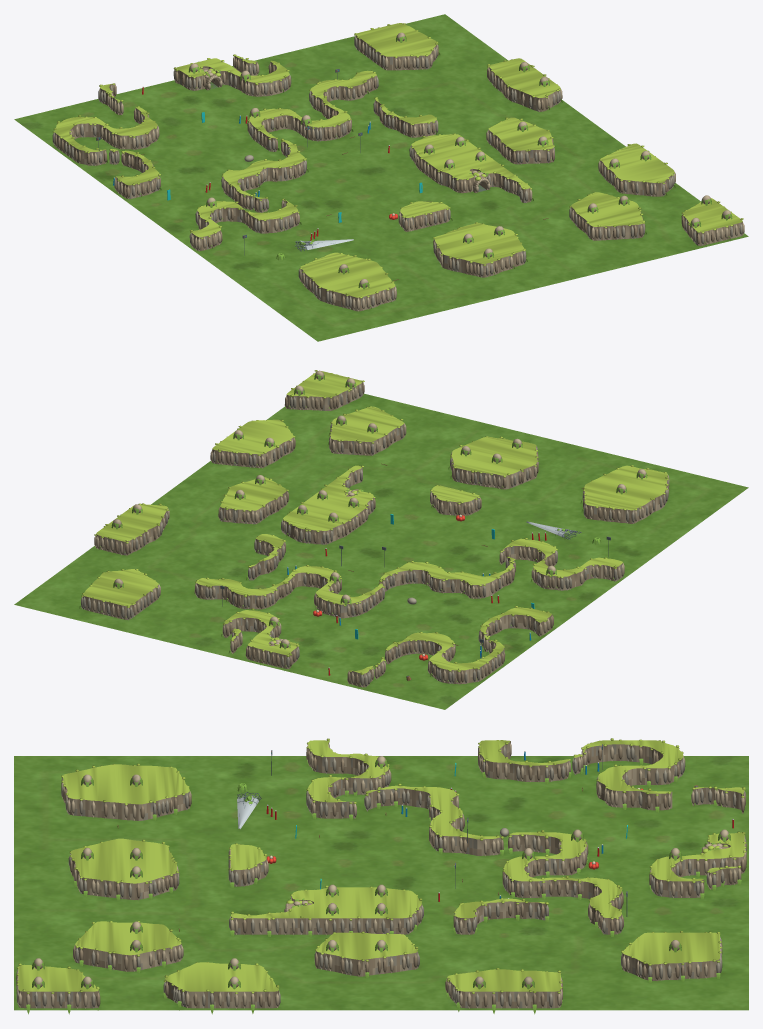
Rendered from terrain-props.glb.
3 renders of one model, top to bottom at view 1: azimuth 30°, elevation 25°; view 2: azimuth 150°, elevation 25°; view 3: azimuth 270°, elevation 25°, orthographic. The views are drawn at different scales.
Visible parts, largest first — view 1: hm04_ground_nominal_exact_zero, hm04-fixed-chunk-3-3, hm04-fixed-chunk-4-0, hm04-fixed-chunk-2-0, hm04-fixed-chunk-2-1, hm04-fixed-chunk-0-1, hm04-fixed-chunk-2-4, hm04-fixed-chunk-3-1, hm04-fixed-chunk-1-2, hm04-fixed-chunk-3-2, hm04-fixed-chunk-4-4, hm04-fixed-chunk-0-4 (+18 smaller); view 2: hm04_ground_nominal_exact_zero, hm04-fixed-chunk-2-4, hm04-fixed-chunk-4-0, hm04-fixed-chunk-4-4, hm04-fixed-chunk-3-2, hm04-fixed-chunk-0-4, hm04-fixed-chunk-2-1, hm04-fixed-chunk-3-1, hm04-fixed-chunk-2-0, hm04-fixed-chunk-1-2, hm04-fixed-chunk-0-1, hm04-fixed-chunk-0-0 (+16 smaller); view 3: hm04_ground_nominal_exact_zero, hm04-fixed-chunk-3-3, hm04-fixed-chunk-3-1, hm04-fixed-chunk-4-0, hm04-fixed-chunk-2-1, hm04-fixed-chunk-3-2, hm04-fixed-chunk-4-4, hm04-fixed-chunk-0-1, hm04-fixed-chunk-1-4, hm04-fixed-chunk-2-0, hm04-fixed-chunk-5-5, hm04-fixed-chunk-2-4 (+21 smaller).
Boxes of the visible parts, bbox=[...] form: hm04_ground_nominal_exact_zero: bbox=[14, 14, 748, 341]; hm04-fixed-chunk-3-3: bbox=[419, 149, 533, 202]; hm04-fixed-chunk-4-0: bbox=[354, 23, 438, 70]; hm04-fixed-chunk-2-0: bbox=[173, 54, 289, 96]; hm04-fixed-chunk-2-1: bbox=[239, 107, 350, 157]; hm04-fixed-chunk-0-1: bbox=[70, 122, 159, 197]; hm04-fixed-chunk-2-4: bbox=[433, 222, 521, 272]; hm04-fixed-chunk-3-1: bbox=[309, 70, 398, 138]; hm04-fixed-chunk-1-2: bbox=[221, 155, 304, 212]; hm04-fixed-chunk-3-2: bbox=[388, 114, 480, 175]; hm04-fixed-chunk-4-4: bbox=[569, 170, 643, 240]; hm04-fixed-chunk-0-4: bbox=[298, 255, 385, 304]; hm04_ground_nominal_exact_zero: bbox=[14, 393, 748, 709]; hm04-fixed-chunk-2-4: bbox=[452, 440, 538, 489]; hm04-fixed-chunk-4-0: bbox=[79, 569, 160, 620]; hm04-fixed-chunk-4-4: bbox=[279, 409, 406, 458]; hm04-fixed-chunk-3-2: bbox=[254, 502, 356, 561]; hm04-fixed-chunk-0-4: bbox=[588, 474, 668, 523]; hm04-fixed-chunk-2-1: bbox=[298, 566, 388, 625]; hm04-fixed-chunk-3-1: bbox=[194, 549, 313, 609]; hm04-fixed-chunk-2-0: bbox=[228, 610, 299, 668]; hm04-fixed-chunk-1-2: bbox=[404, 556, 515, 598]; hm04-fixed-chunk-0-1: bbox=[410, 606, 551, 669]; hm04-fixed-chunk-0-0: bbox=[406, 635, 497, 684]; hm04_ground_nominal_exact_zero: bbox=[14, 756, 748, 1010]; hm04-fixed-chunk-3-3: bbox=[229, 879, 358, 936]; hm04-fixed-chunk-3-1: bbox=[486, 871, 618, 934]; hm04-fixed-chunk-4-0: bbox=[621, 931, 722, 981]; hm04-fixed-chunk-2-1: bbox=[485, 829, 603, 890]; hm04-fixed-chunk-3-2: bbox=[355, 884, 489, 934]; hm04-fixed-chunk-4-4: bbox=[95, 921, 208, 973]; hm04-fixed-chunk-0-1: bbox=[485, 738, 620, 800]; hm04-fixed-chunk-1-4: bbox=[94, 765, 191, 827]; hm04-fixed-chunk-2-0: bbox=[649, 829, 746, 891]; hm04-fixed-chunk-5-5: bbox=[16, 958, 95, 1014]; hm04-fixed-chunk-2-4: bbox=[96, 838, 179, 890].
Size of the model in its own units: 64.17 by 5.31 by 78.13.
Materials: 2 (1 with a texture image).
